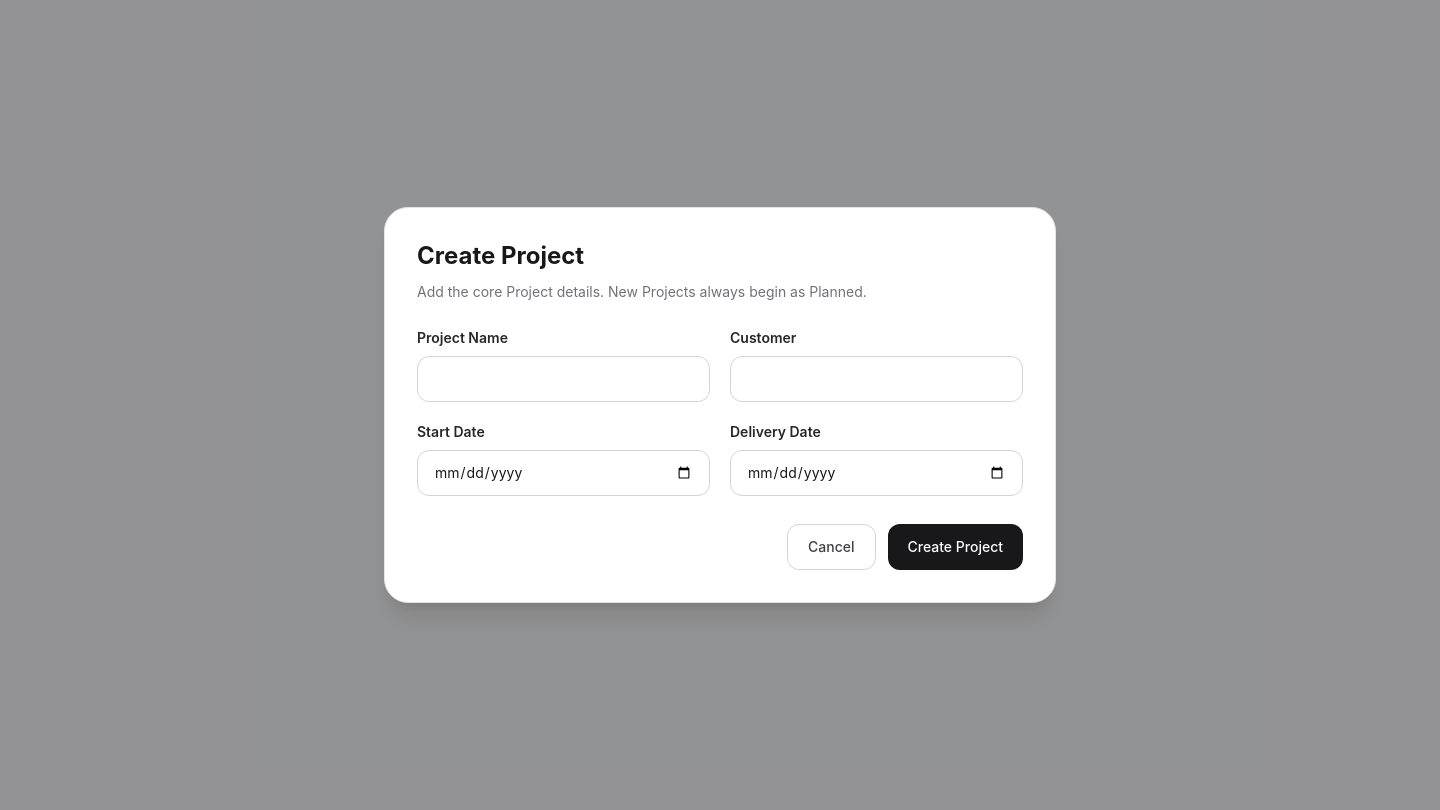
Test: CreateProjectDialog › rejects delivery before start
This screenshot has width=1440, height=810.
In the field labelled "Project Name": (564, 379) [417,356,710,402], type "  Control Cabinet  "
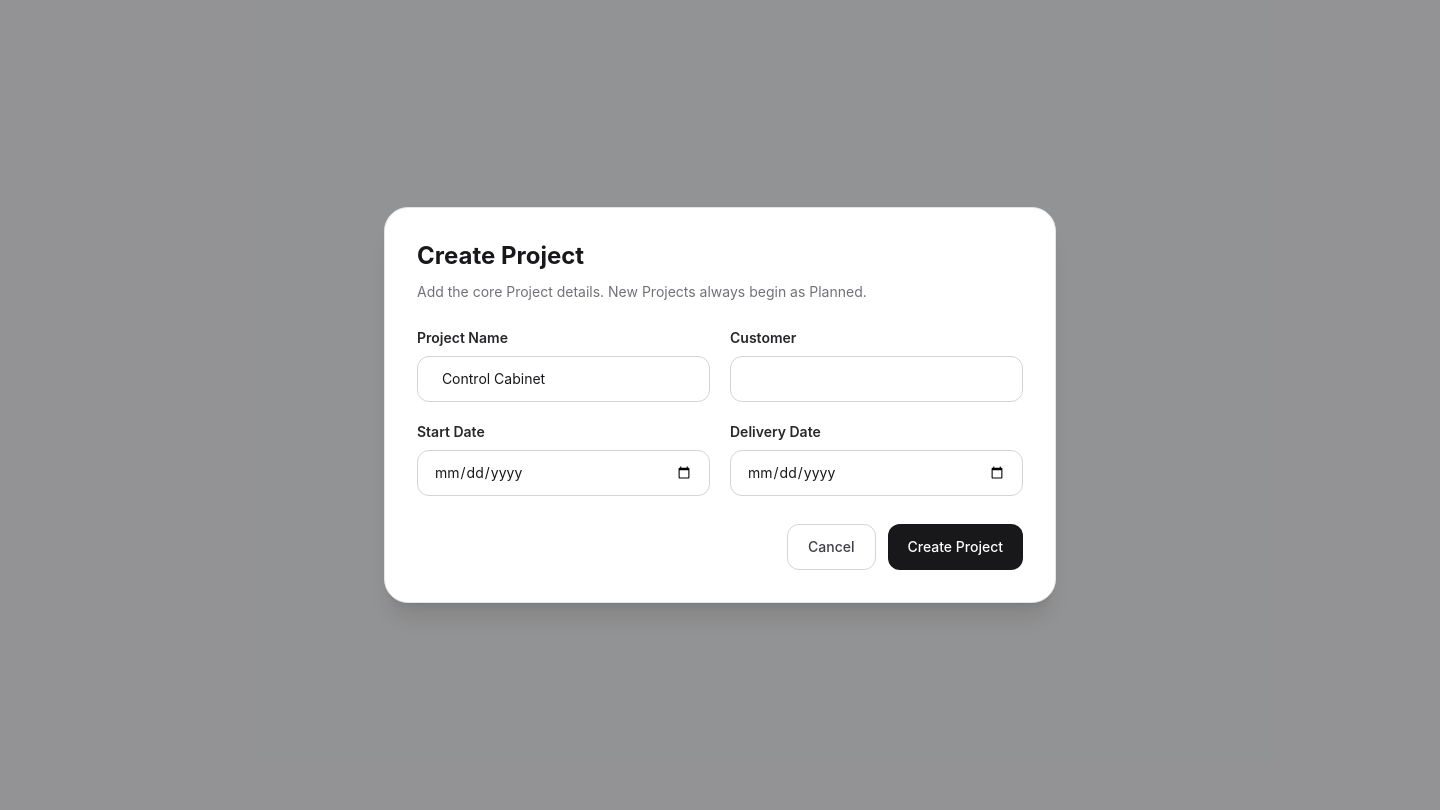
In the field labelled "Customer": (876, 379) [730,356,1023,402], type "  Alfa Customer  "
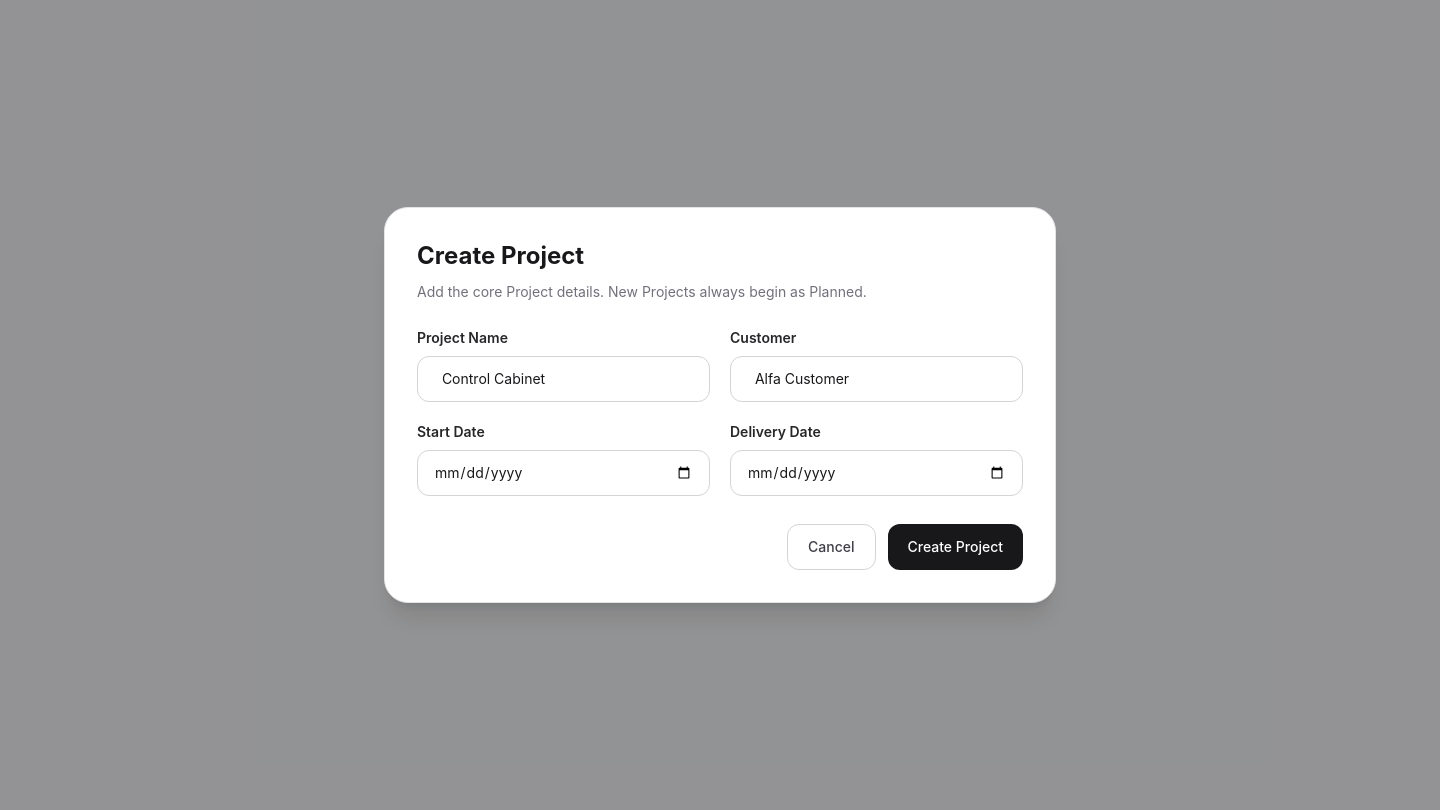
In the date field labelled "Start Date": (564, 473) [417,450,710,496], type "2026-09-01"
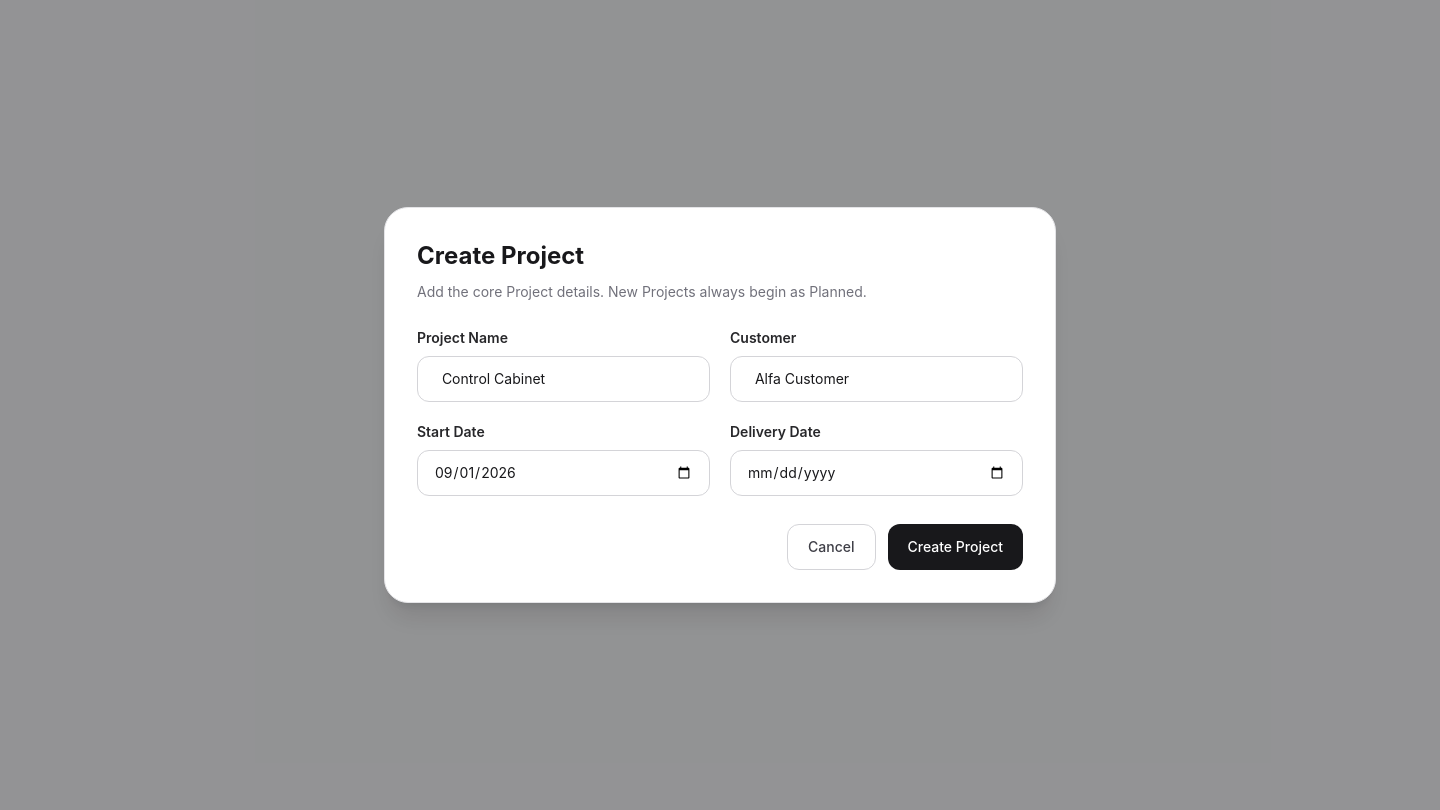
In the date field labelled "Delivery Date": (876, 473) [730,450,1023,496], type "2026-09-30"
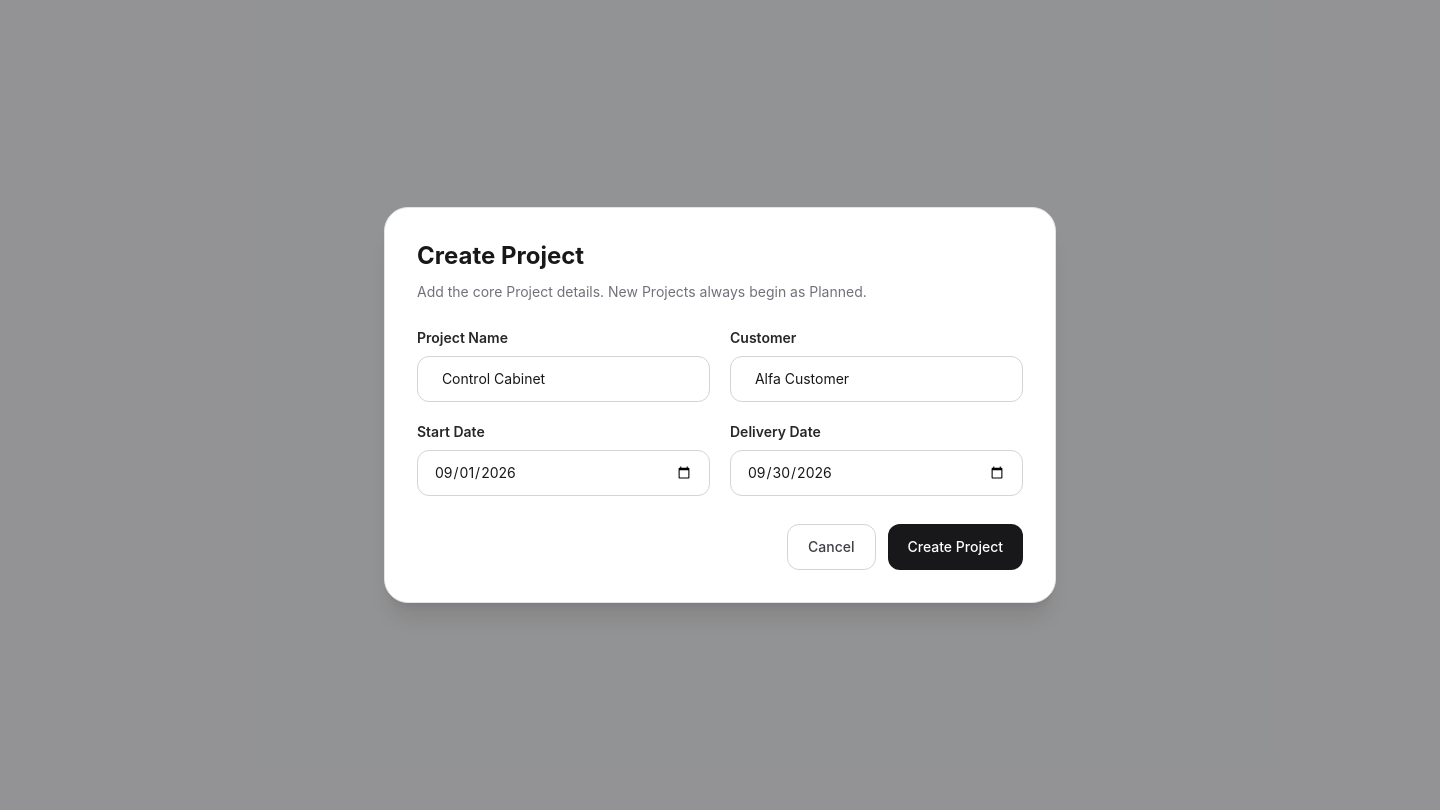
In the date field labelled "Delivery Date": (876, 473) [730,450,1023,496], type "2026-08-31"
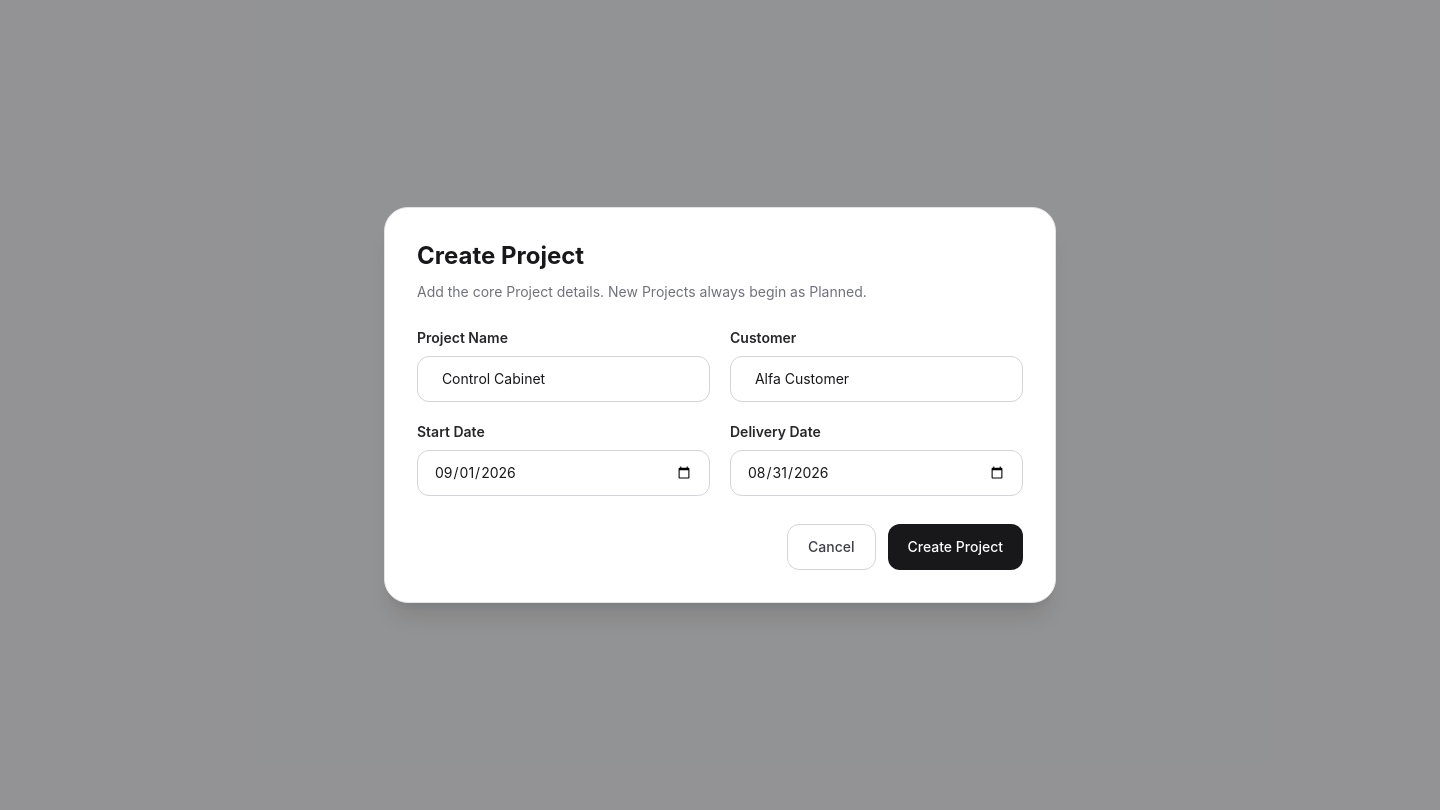
Click the button "Create Project": (955, 547) [888,524,1023,570]
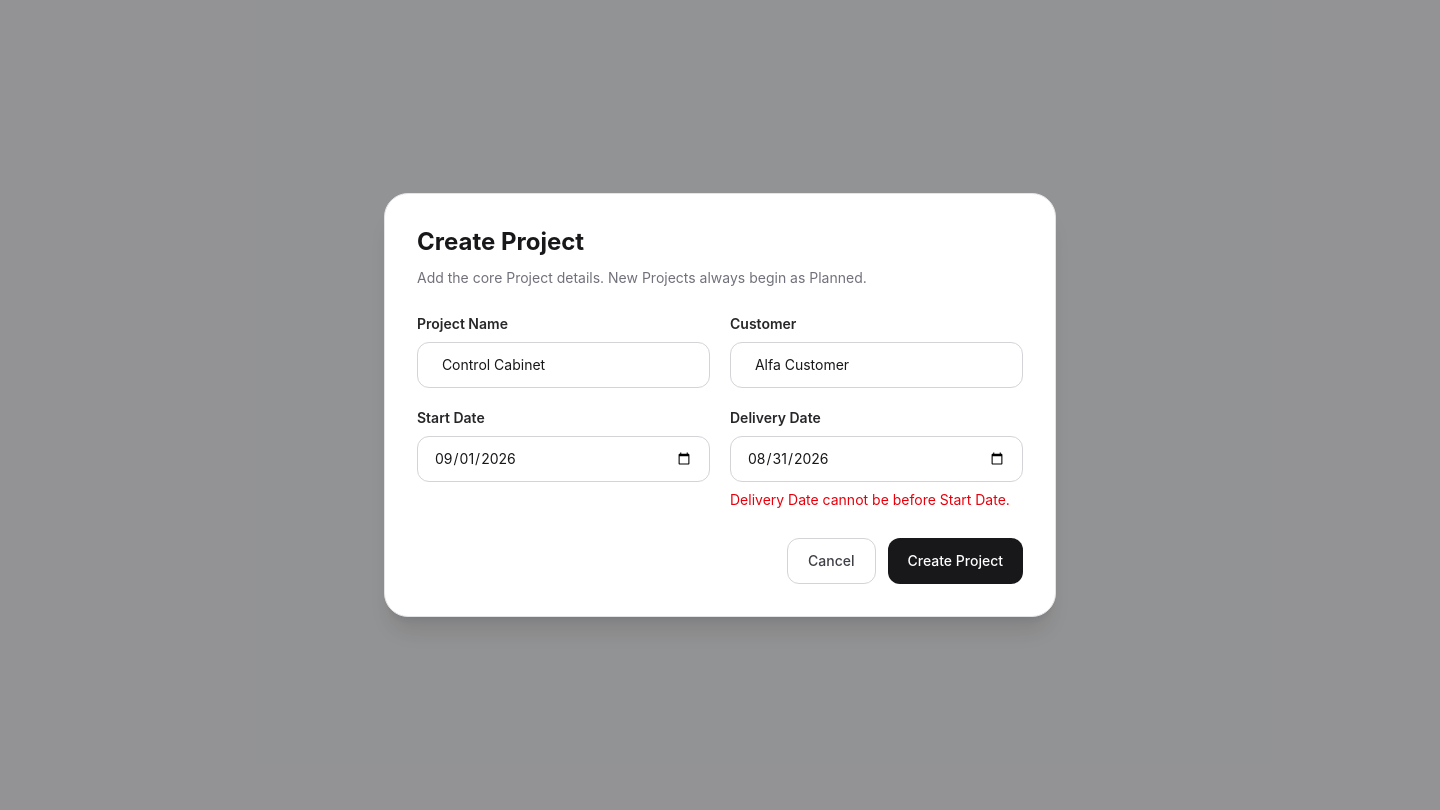
Now the text "Delivery Date cannot be before Start Date." is shown, box [730,490,1023,510]
